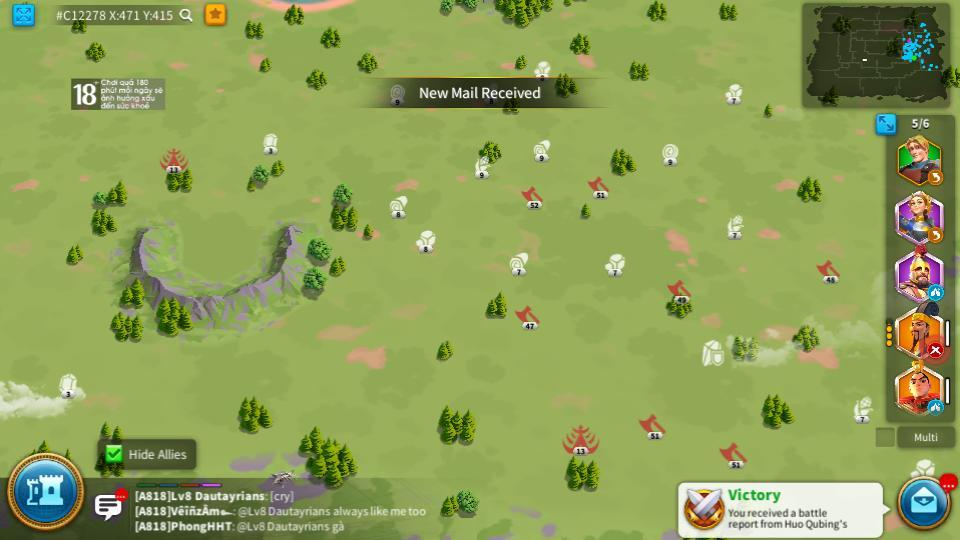gem-z-out: (531, 60, 551, 77)
march_attacking: (929, 345, 943, 357)
march_idle: (927, 401, 944, 413), (929, 284, 942, 299)
march_returning: (926, 229, 943, 242), (928, 170, 942, 185)
